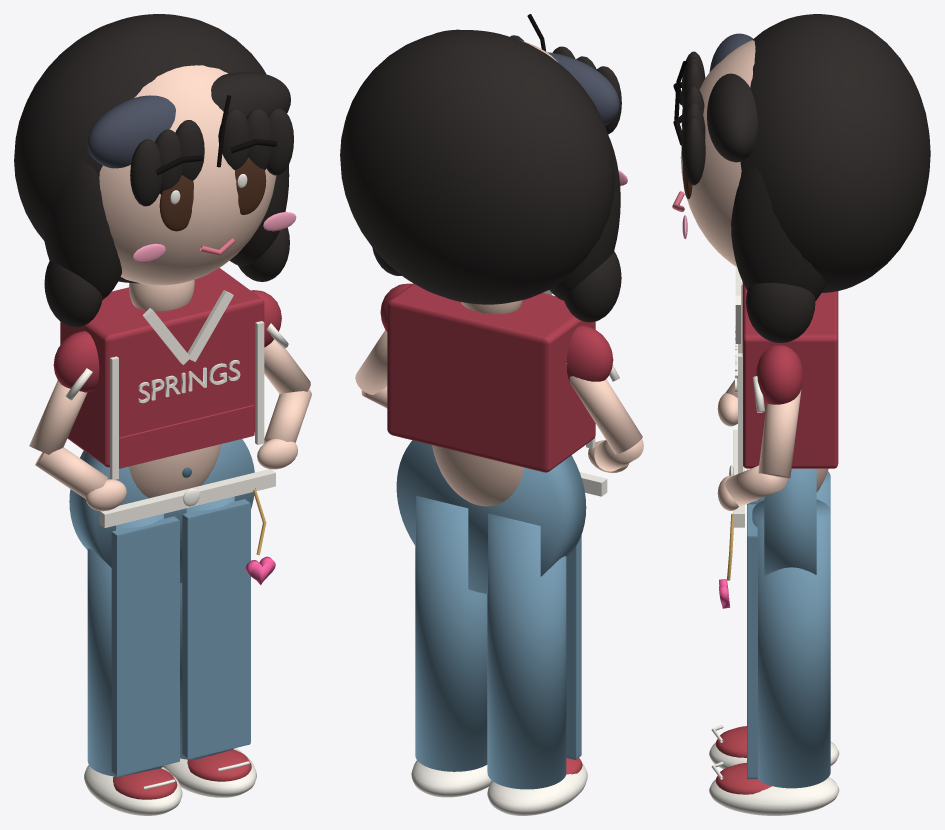
File: marvellyn_chibi.glb
3 renders of one model, left to right at view 1: azimuth 30°, elevation 25°; view 2: azimuth 150°, elevation 25°; view 3: azimuth 270°, elevation 25°, orthographic. The views are drawn at different scales.
Parts seen in each view (by area): view 1: cropped maroon jersey, back bob hair, left jean front plane, right jean front plane, head, left bob volume, left wide jean leg, wide jean waist, shirt lower soft curve, left front sweep, front belt rim, belly (+31 smaller); view 2: back bob hair, cropped maroon jersey, left wide jean leg, right wide jean leg, wide jean waist, belly, left jean front plane, left upper arm, left sneaker base, curled hair tip 0, left sleeve cap, left bob volume (+4 smaller); view 3: back bob hair, right wide jean leg, cropped maroon jersey, right bob volume, head, wide jean waist, right front sweep, curled hair tip 1, right sneaker base, right jean front plane, right upper arm, right sleeve cap (+10 smaller).
Part boxes in pixels (x1,y1,x2,y2): cropped maroon jersey: (60, 268, 264, 467); back bob hair: (14, 14, 265, 283); left jean front plane: (111, 516, 179, 776); right jean front plane: (182, 499, 250, 759); head: (99, 65, 276, 285); left bob volume: (43, 161, 121, 299); left wide jean leg: (87, 514, 163, 776); wide jean waist: (69, 439, 254, 583); shirt lower soft curve: (119, 405, 254, 468); left front sweep: (87, 95, 175, 168); front belt rim: (99, 469, 275, 527); belly: (129, 444, 221, 498); back bob hair: (340, 30, 615, 304); cropped maroon jersey: (387, 283, 595, 472); left wide jean leg: (487, 513, 566, 789); right wide jean leg: (415, 495, 487, 771); wide jean waist: (396, 440, 586, 593); belly: (432, 445, 524, 506); left jean front plane: (566, 535, 581, 759); left upper arm: (566, 363, 642, 454); left sneaker base: (487, 763, 587, 815); curled hair tip 0: (564, 251, 621, 322); left sleeve cap: (566, 325, 613, 383); left bob volume: (549, 139, 620, 300); back bob hair: (740, 14, 930, 292); right wide jean leg: (752, 499, 830, 788); cropped maroon jersey: (742, 282, 838, 468); right bob volume: (731, 168, 825, 300); head: (680, 40, 755, 266); wide jean waist: (764, 468, 816, 575); right front sweep: (707, 73, 757, 162); curled hair tip 1: (746, 283, 815, 342); right sneaker base: (709, 777, 839, 815); right jean front plane: (747, 504, 757, 779); right upper arm: (758, 390, 801, 478); right sleeve cap: (755, 345, 803, 404).
Bounding box in the file's own units: 1.49 × 3.87 × 1.19.
